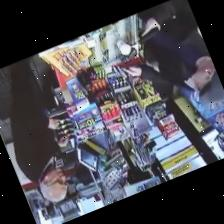person: (123, 0, 223, 104), (9, 55, 67, 201)
